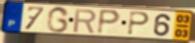6: (153, 13, 172, 38)
7: (24, 5, 46, 31)
G: (45, 6, 70, 34)
P: (95, 8, 122, 36), (126, 11, 151, 37)
R: (72, 8, 98, 34)
